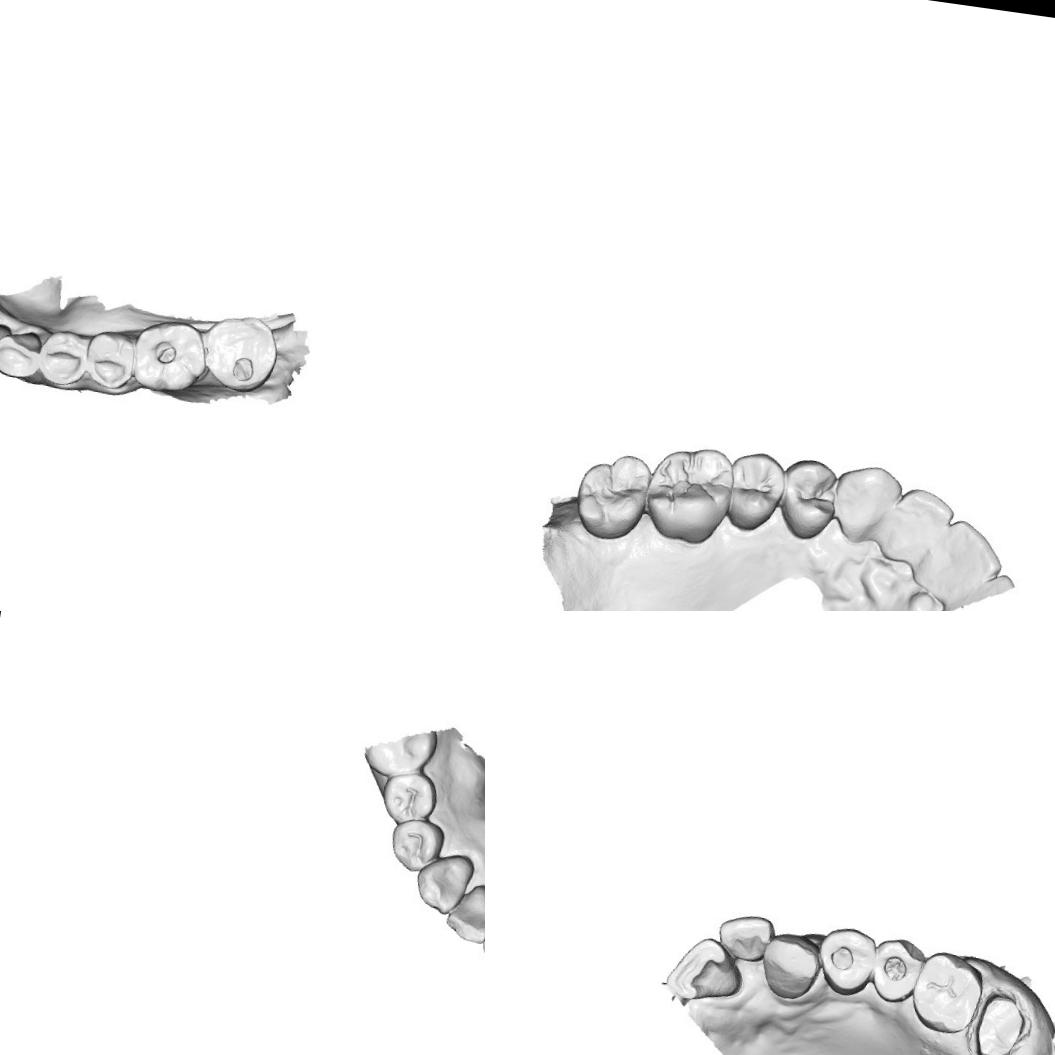canine: (830, 462, 902, 550), (758, 930, 824, 1004), (409, 848, 475, 917), (0, 326, 47, 383)
crown: (967, 987, 1030, 1055)
incisor: (915, 519, 999, 609), (880, 484, 956, 580), (663, 933, 747, 1007), (715, 908, 776, 966), (445, 880, 485, 945), (0, 315, 10, 369)
molar: (644, 446, 736, 545), (126, 313, 212, 399), (198, 310, 282, 396), (908, 948, 987, 1039), (580, 451, 654, 533)
premolar: (720, 449, 789, 532), (812, 922, 880, 1001), (778, 454, 839, 537), (866, 934, 925, 1006), (378, 764, 438, 827), (81, 327, 137, 394), (36, 326, 92, 388), (391, 818, 446, 872)
